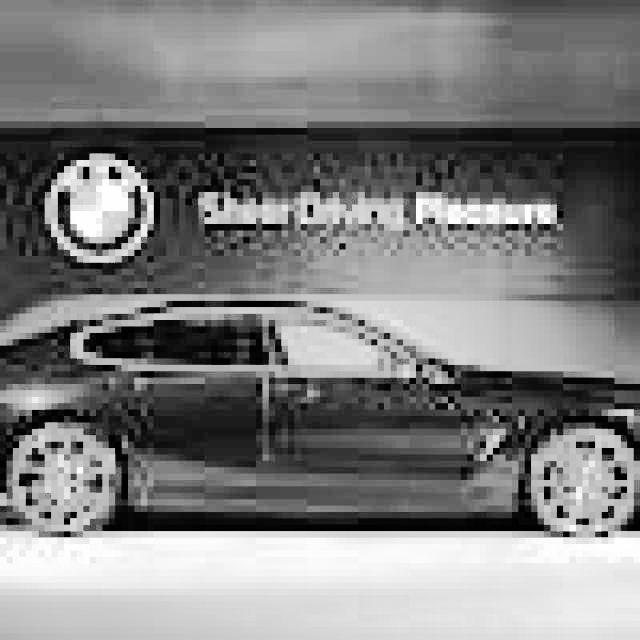Car: (0, 281, 640, 593)
